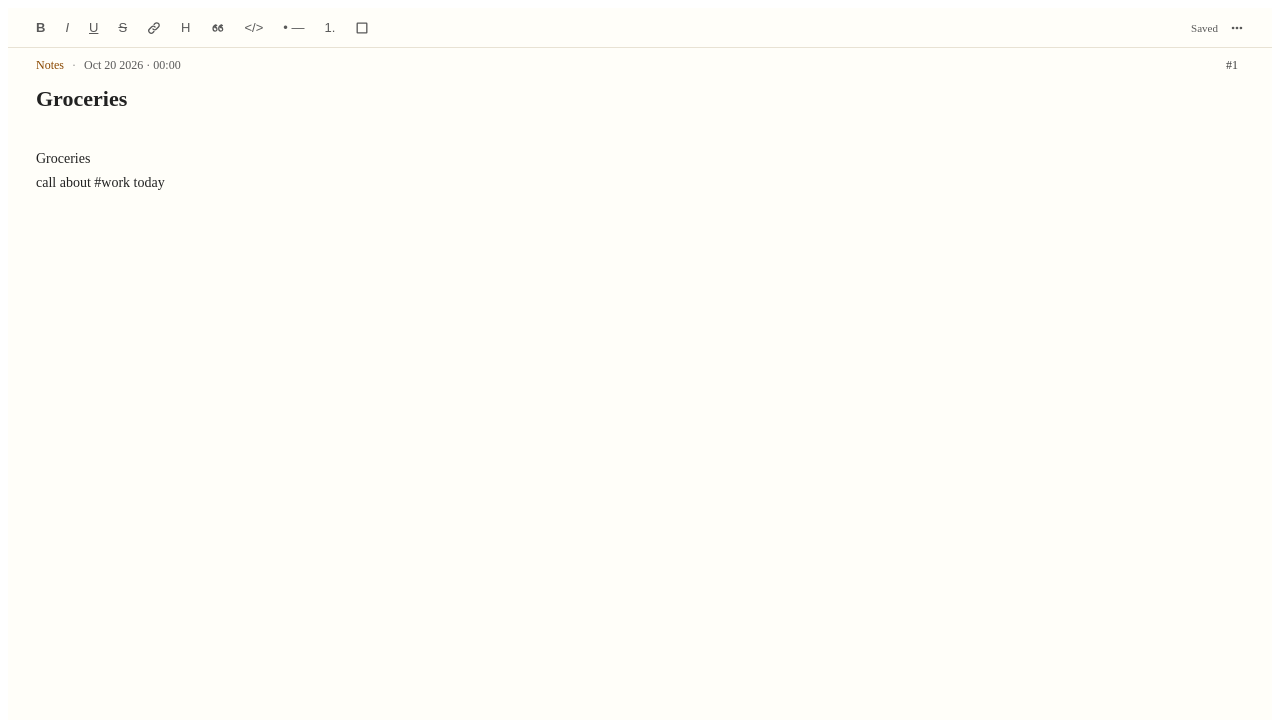
Tags popover in the editor › remove deletes only the #
The image size is (1280, 720).
Click the button with class "meta-tags" at [1232, 65], box [1220, 56, 1244, 74]
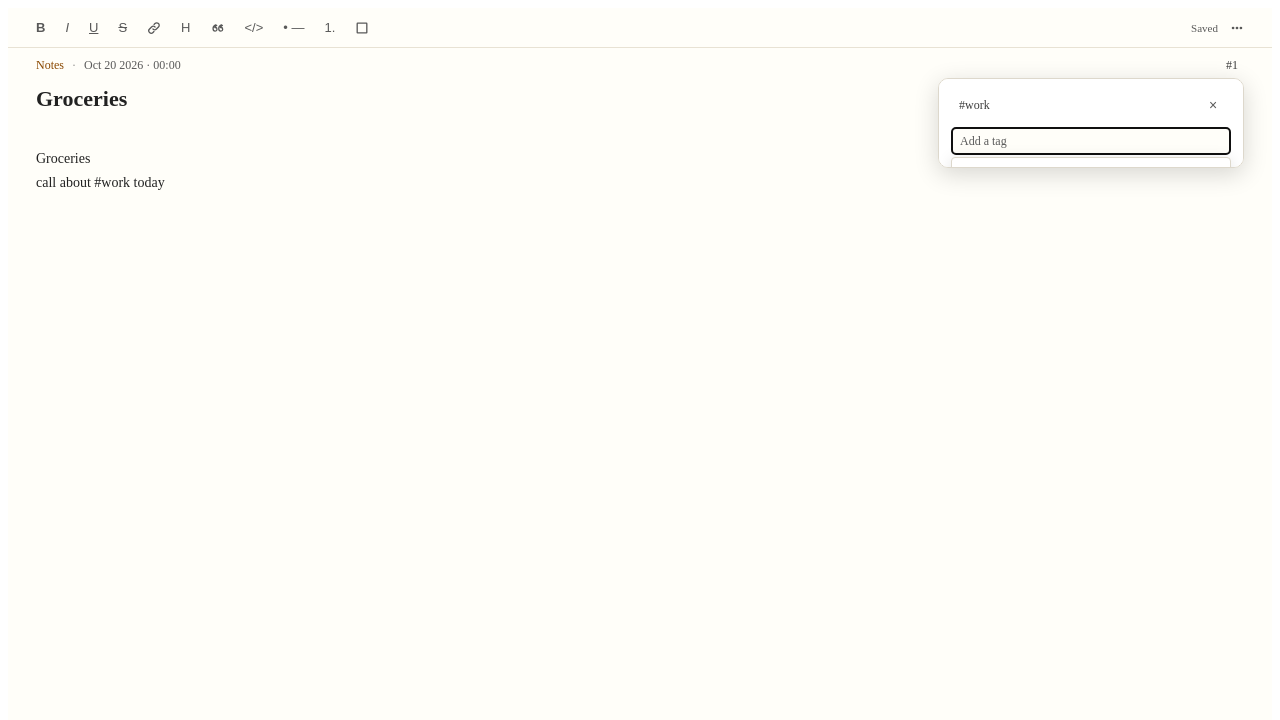
Click the button named "Remove tag work" at [1213, 105], box [1199, 91, 1227, 119]
(page scrolled)
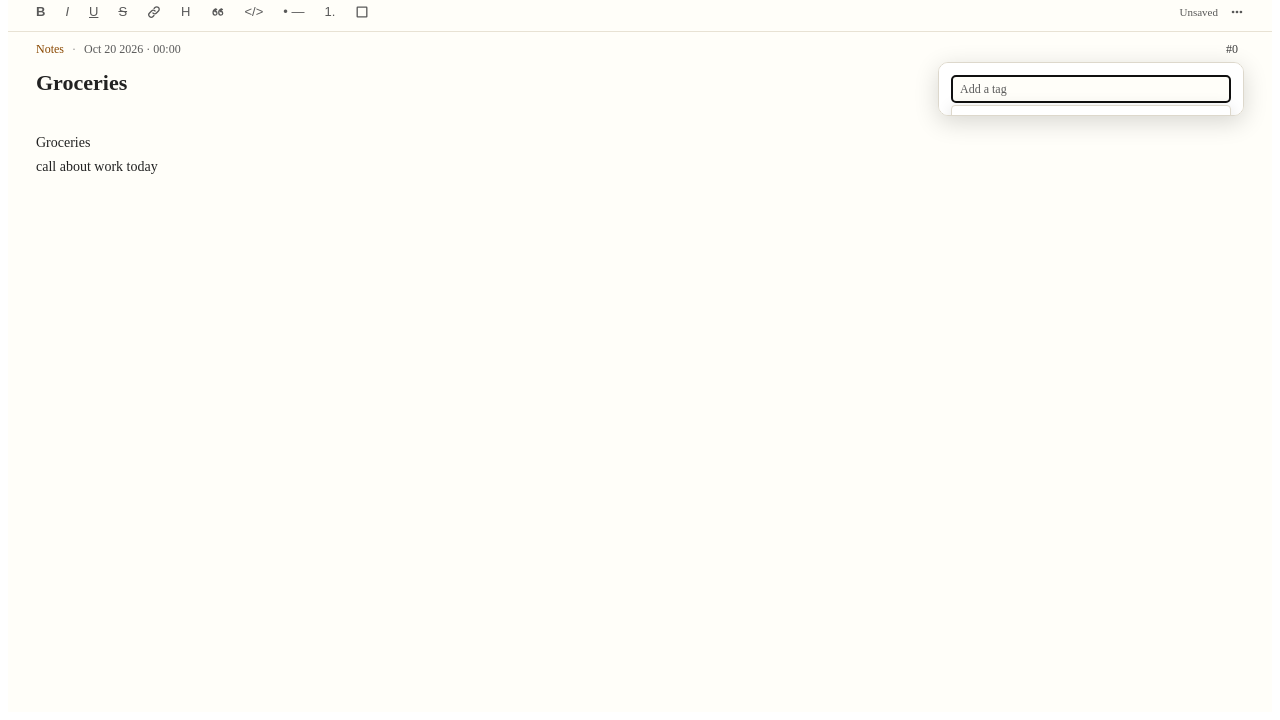
Expected: the field with class "editor-body" shows "call about work today", [36, 135, 158, 174]
